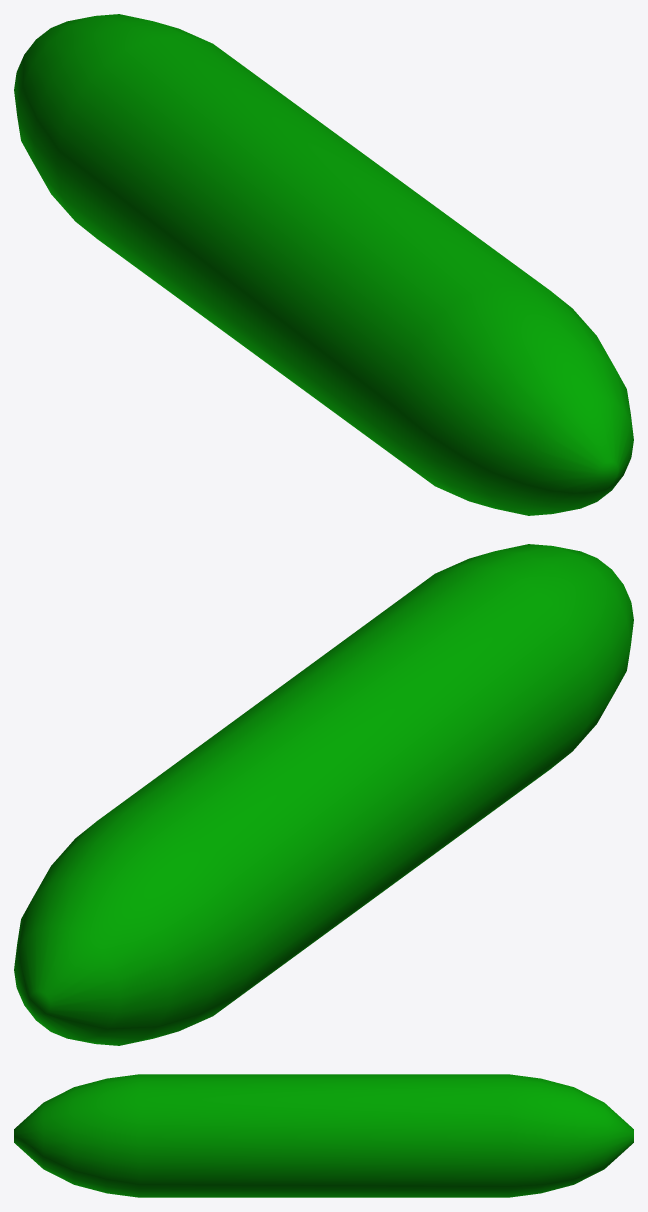
File: gasbag_boring.glb
The picture shows the model from 3 angles, top to bottom: view 1: azimuth 30°, elevation 25°; view 2: azimuth 150°, elevation 25°; view 3: azimuth 270°, elevation 25°; orthographic projection. The views are drawn at different scales.
Parts seen in each view (by area): view 1: Cylinder; view 2: Cylinder; view 3: Cylinder.
Boxes of the visible parts, x1,y1,x2,y2 form: Cylinder: (14,14,633,515); Cylinder: (14,544,633,1045); Cylinder: (14,1074,633,1197).
Bounding box in the file's own units: 12.01 × 12.01 × 59.84.
